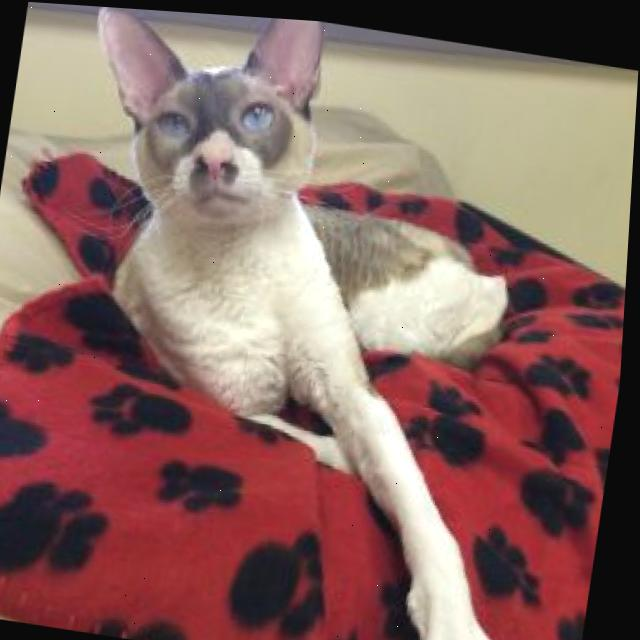Cornish Rex: (9, 2, 615, 640)
